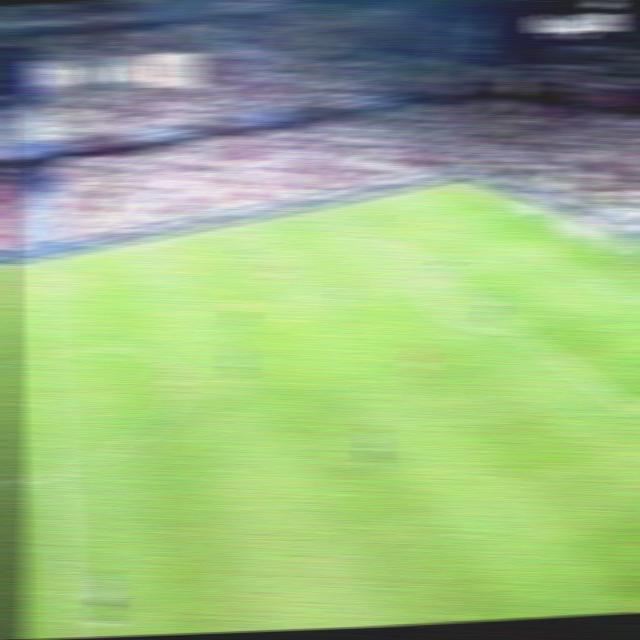bigarea_bottom_inner: (620, 397, 640, 424)
bigarea_top_inner: (375, 231, 395, 243)
bigarea_top_outter: (500, 202, 532, 220)
bottom_arc_area_intersection: (508, 325, 531, 341)
corner: (443, 179, 472, 192)
halfcircle_bottom: (41, 455, 72, 489)
halfcircle_top: (32, 336, 64, 370)
midline_top_intersection: (24, 257, 58, 273)
smallarea_top_inner: (518, 241, 546, 255)
smallarea_top_outter: (563, 230, 588, 245)
top_arc_area_intersection: (427, 266, 449, 282)
